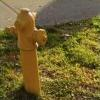a fire hydrant: (18, 14, 40, 99)
